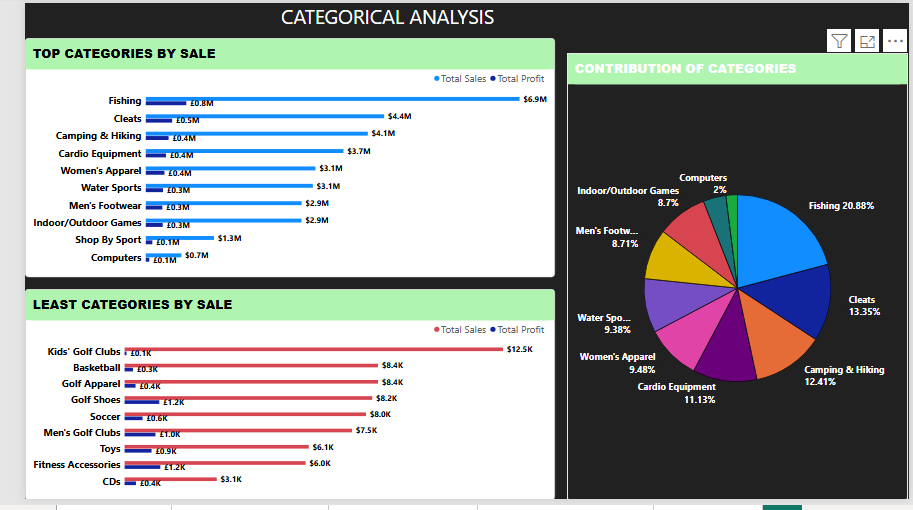

The dashboard page shown, as its layout file describes it:
{"tool":"powerbi","page":{"name":"CATEGORICAL ANALYSIS","canvas":[1920,1080],"ordinal":3},"visuals":[{"type":"textbox","box":[556.5,0,491.3,78.3],"z":0},{"type":"clusteredBarChart","title":"TOP CATEGORIES BY SALE","fields":{"Category":["Table1.Category Name"],"Y":["Table1.Total Sales","Table1.Total Profit"]},"box":[0,76.1,1152.2,519.6],"z":1000},{"type":"pieChart","title":"CONTRIBUTION OF CATEGORIES","fields":{"Category":["Table1.Category Name"],"Y":["Table1.Total Sales"]},"box":[1178.3,108.7,741.3,971.7],"z":2000},{"type":"clusteredBarChart","title":"LEAST CATEGORIES BY SALE","fields":{"Category":["Table1.Category Name"],"Y":["Table1.Total Sales","Table1.Total Profit"]},"box":[0,621.7,1152.2,458.7],"z":3000}]}

Visuals, with their boxes in screenshot pixels (x1, y1, x2, y2), scaled from the page's 1920x1080 canvas onto the 913x510 screenshot:
textbox: 265 0 498 37
"TOP CATEGORIES BY SALE" clusteredBarChart: 0 36 548 281
"CONTRIBUTION OF CATEGORIES" pieChart: 560 51 912 509
"LEAST CATEGORIES BY SALE" clusteredBarChart: 0 294 548 509
